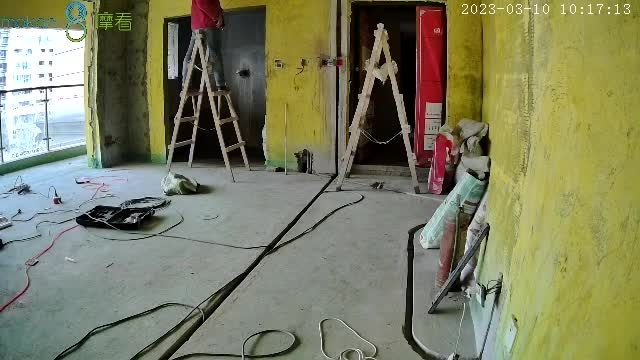people: (182, 1, 226, 93)
window: (1, 29, 88, 160)
